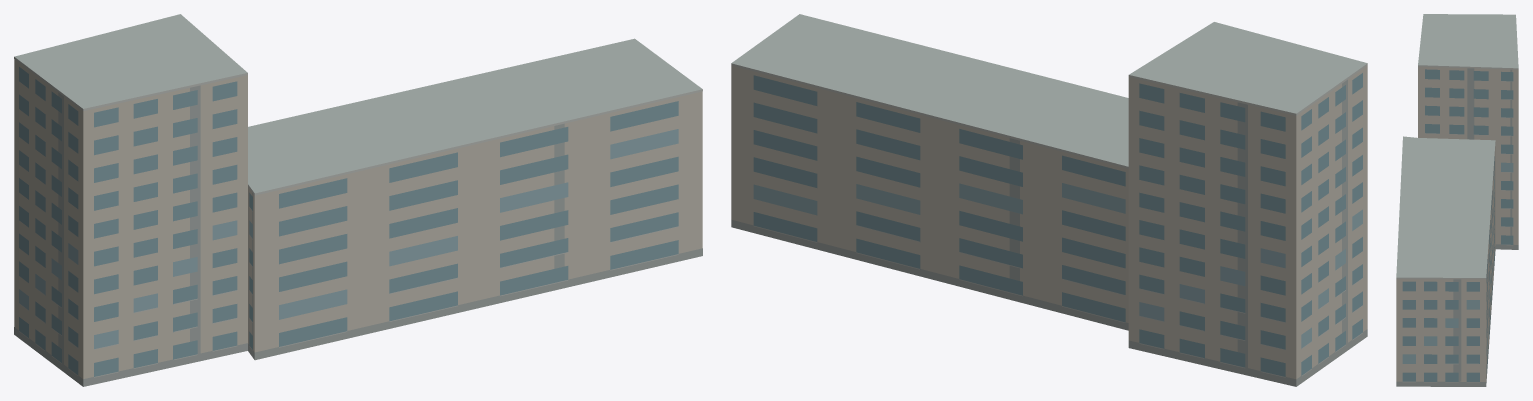
The model's file is residential-736e5ef8-8384-4b55-9828-1e2d7ea4cb35.glb.
3 views of the same model, side by side, from view 1: azimuth 30°, elevation 25°; view 2: azimuth 150°, elevation 25°; view 3: azimuth 270°, elevation 25° (orthographic). The views are drawn at different scales.
Visible parts, largest first — view 1: residential-736e5ef8-8384-4b55-9828-1e2d7ea4cb35.tmp; view 2: residential-736e5ef8-8384-4b55-9828-1e2d7ea4cb35.tmp; view 3: residential-736e5ef8-8384-4b55-9828-1e2d7ea4cb35.tmp.
Boxes of the visible parts, <box> form: residential-736e5ef8-8384-4b55-9828-1e2d7ea4cb35.tmp: <box>14,14,702,386</box>; residential-736e5ef8-8384-4b55-9828-1e2d7ea4cb35.tmp: <box>731,14,1367,386</box>; residential-736e5ef8-8384-4b55-9828-1e2d7ea4cb35.tmp: <box>1396,14,1518,386</box>.
Bounding box in the file's own units: 68.86 × 30.5 × 18.64.
